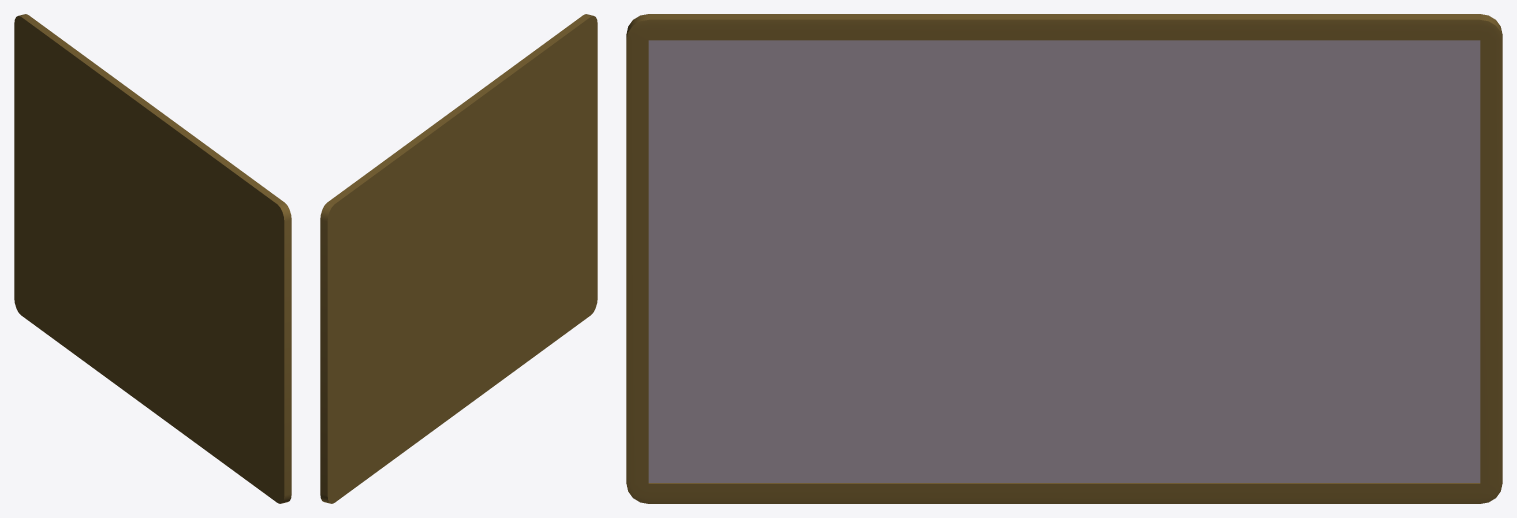
Rendered from board white.fbx.
The picture shows the model from 3 angles, left to right: view 1: azimuth 30°, elevation 25°; view 2: azimuth 150°, elevation 25°; view 3: azimuth 270°, elevation 25°; orthographic projection. The views are drawn at different scales.
Visible parts, largest first — view 1: Cube; view 2: Cube; view 3: Cube.
Boxes of the visible parts, x1,y1,x2,y2 form: Cube: (14, 14, 291, 503); Cube: (320, 14, 597, 503); Cube: (626, 14, 1502, 503).
Bounding box in the file's own units: 13.58 × 504 × 826.
